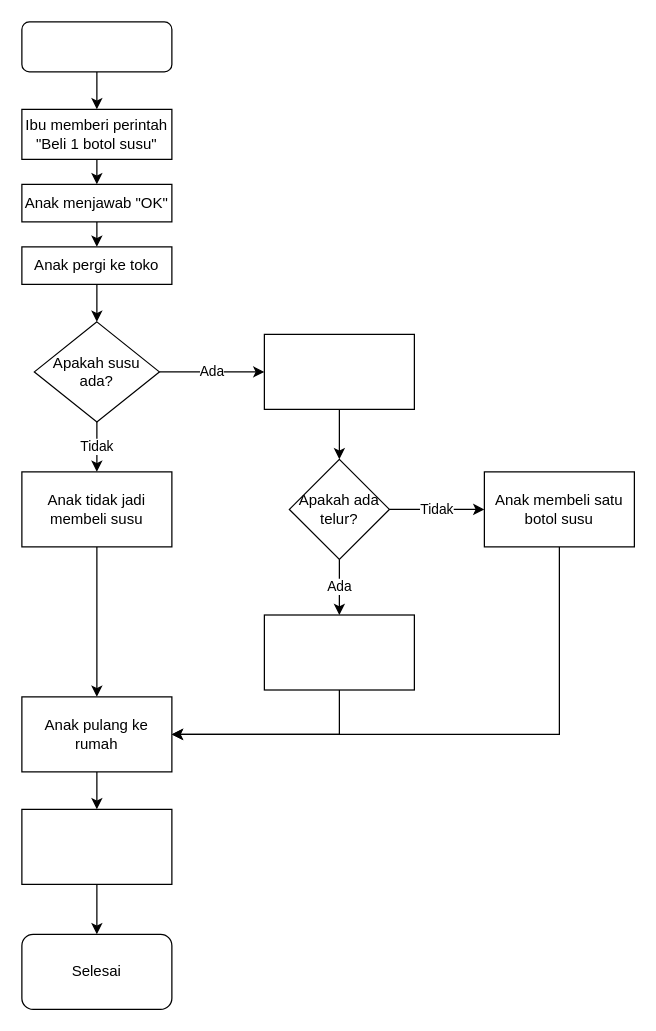
Some shapes in this 656 by 1031 pixel diagram are drawn without their labels. Here are the shapes that lost their labels. From the top down, the centre of each, then its label:
point (96, 46): Mulai
point (338, 371): Anak mengecheck harganya cukup
point (338, 652): Anak membeli 1 botol susu dan 6 butir telur
point (96, 846): Menyerahkan hasil belanjaanya kepada ibu
